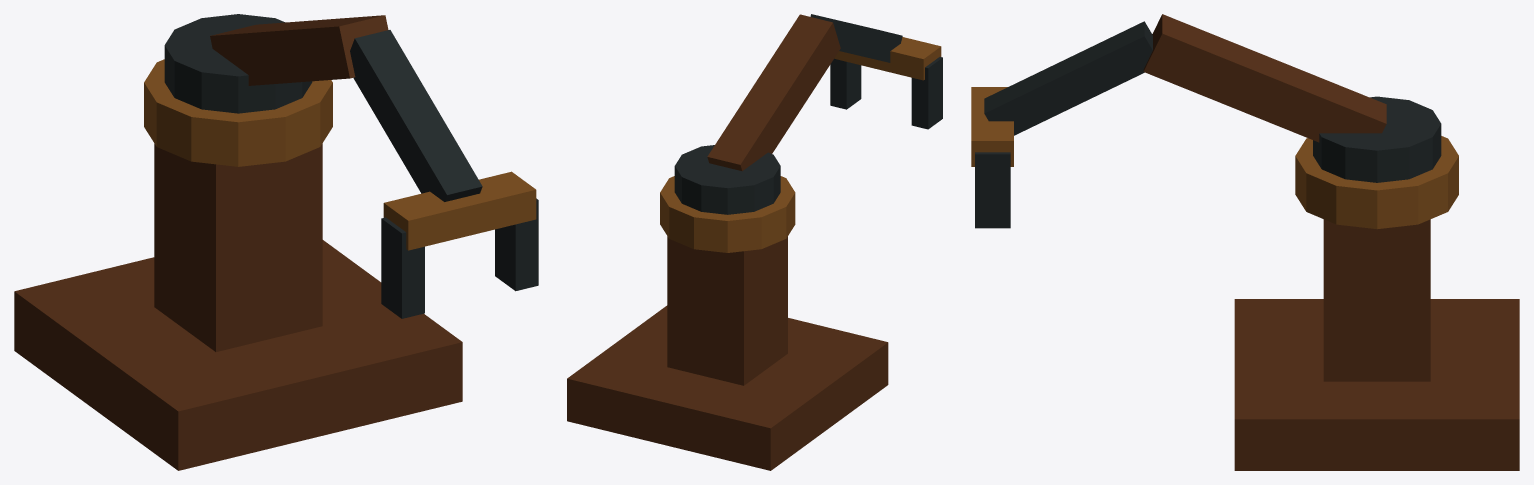
Rendered from vf_feeder.obj.
3 renders of one model, left to right at view 1: azimuth 30°, elevation 25°; view 2: azimuth 150°, elevation 25°; view 3: azimuth 270°, elevation 25°, orthographic. The views are drawn at different scales.
Visible parts, largest first — view 1: Static_Oak, Arm_Yaw_Iron, Static_Bronze, Arm_Yaw_Oak, Arm_Yaw_Bronze; view 2: Static_Oak, Arm_Yaw_Iron, Arm_Yaw_Oak, Static_Bronze, Arm_Yaw_Bronze; view 3: Static_Oak, Arm_Yaw_Iron, Arm_Yaw_Oak, Static_Bronze, Arm_Yaw_Bronze.
Boxes of the visible parts, box(x1,y1,x2,y2) form: Static_Oak: box(14, 143, 462, 470); Arm_Yaw_Iron: box(164, 14, 538, 318); Static_Bronze: box(144, 59, 332, 166); Arm_Yaw_Oak: box(210, 15, 388, 85); Arm_Yaw_Bronze: box(383, 171, 536, 250); Static_Oak: box(567, 236, 888, 470); Arm_Yaw_Iron: box(674, 14, 942, 214); Arm_Yaw_Oak: box(707, 14, 840, 171); Static_Bronze: box(660, 176, 795, 252); Arm_Yaw_Bronze: box(834, 37, 941, 80); Static_Oak: box(1234, 219, 1519, 470); Arm_Yaw_Iron: box(975, 21, 1441, 228); Arm_Yaw_Oak: box(1143, 14, 1386, 142); Static_Bronze: box(1295, 136, 1458, 229); Arm_Yaw_Bronze: box(971, 87, 1013, 166).
Size of the model in its own units: 0.8 by 1.2 by 1.54.
